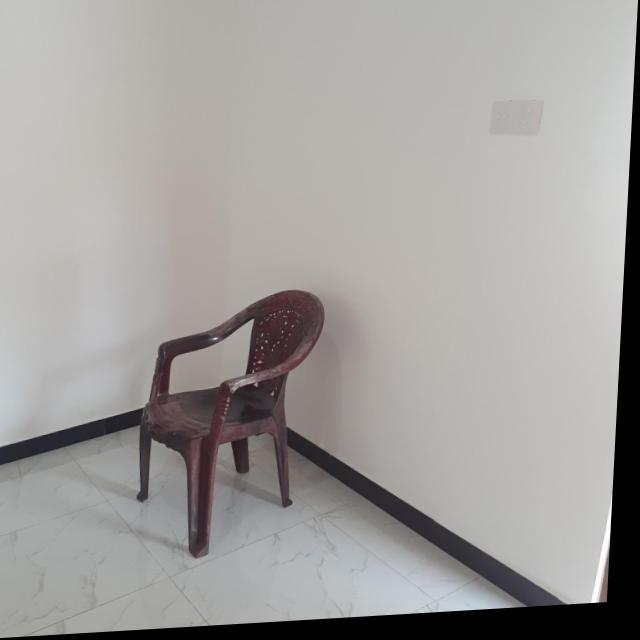Chair: (137, 290, 330, 564)
